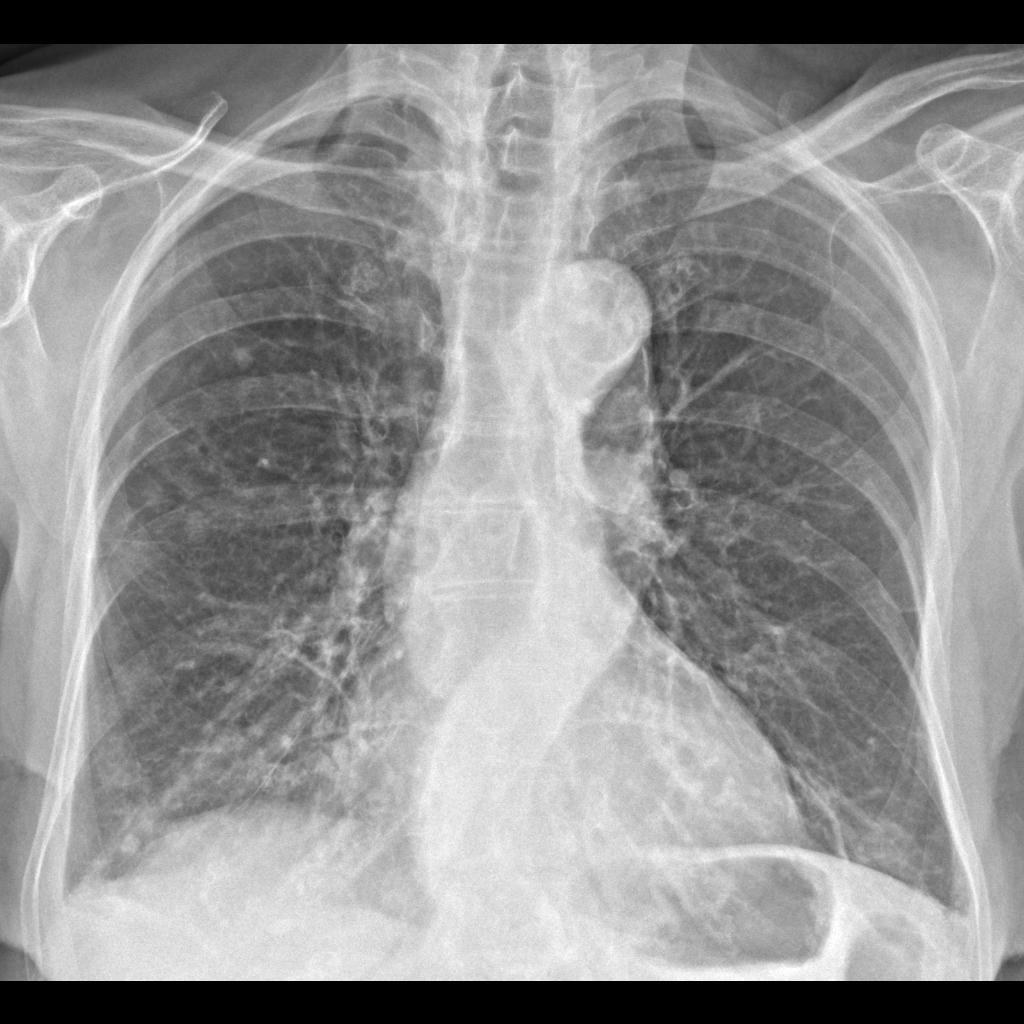Nodule: (227, 343, 266, 382)
